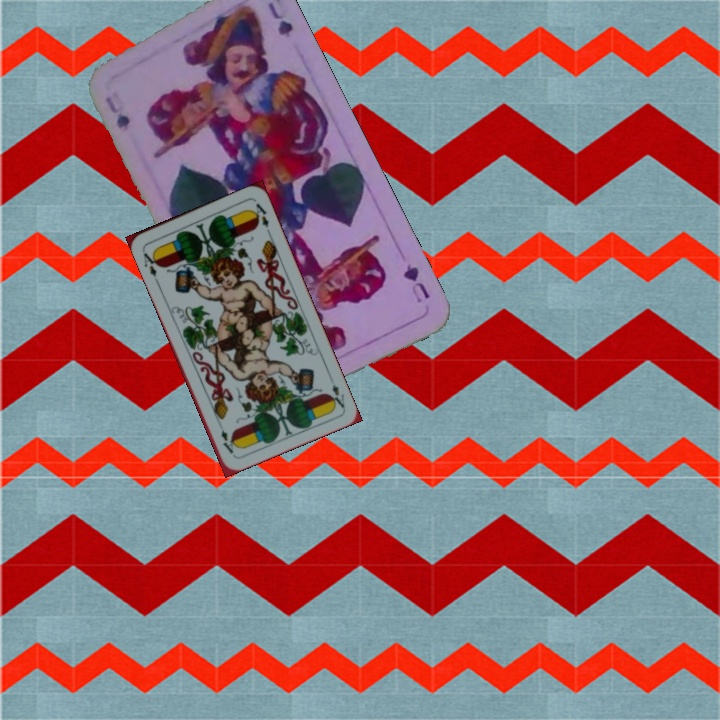EA: (138, 246, 162, 284), (325, 380, 347, 411)
GU: (398, 260, 433, 306), (101, 88, 133, 133)
